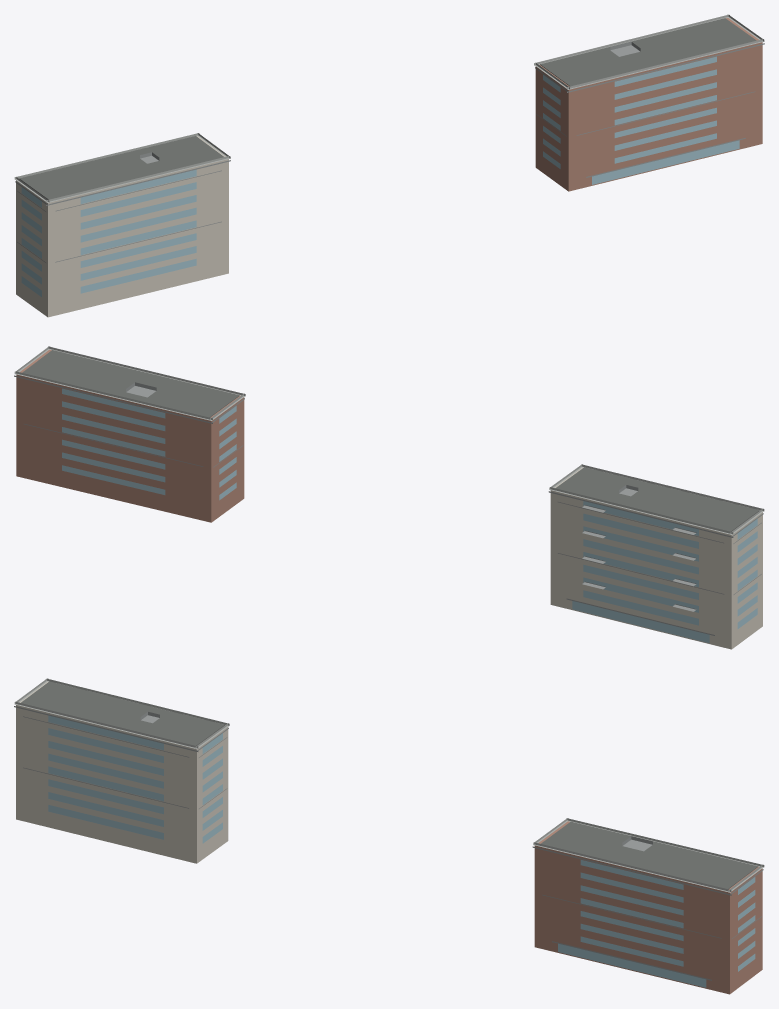
File: tile-p001-m004.glb
The picture shows the model from 3 angles, top to bottom: view 1: azimuth 30°, elevation 25°; view 2: azimuth 150°, elevation 25°; view 3: azimuth 330°, elevation 25°; orthographic projection.
Visible parts, largest first — view 1: building-0909-mesh-7, building-0807-mesh-0, building-0807-mesh-1, building-0909-mesh-8, building-0909-mesh-10, building-0807-mesh-4, building-0909-mesh-11, building-0807-mesh-5, building-0909-mesh-9, building-0807-mesh-2; view 2: building-0909-mesh-7, building-0807-mesh-0, building-0807-mesh-1, building-0909-mesh-10, building-0909-mesh-8, building-0807-mesh-4, building-0909-mesh-11, building-0807-mesh-5, building-0807-mesh-2, building-0807-mesh-3, building-0909-mesh-9; view 3: building-0909-mesh-7, building-0807-mesh-0, building-0807-mesh-1, building-0909-mesh-8, building-0909-mesh-10, building-0807-mesh-4, building-0909-mesh-11, building-0807-mesh-5, building-0909-mesh-9, building-0807-mesh-2.
Part boxes in pixels (left/top/right/bottom): building-0909-mesh-7: left=535, top=18, right=762, bottom=191; building-0807-mesh-0: left=16, top=136, right=228, bottom=317; building-0807-mesh-1: left=21, top=169, right=196, bottom=296; building-0909-mesh-8: left=543, top=56, right=739, bottom=184; building-0909-mesh-10: left=540, top=18, right=756, bottom=86; building-0807-mesh-4: left=19, top=136, right=223, bottom=199; building-0909-mesh-11: left=534, top=14, right=764, bottom=89; building-0807-mesh-5: left=14, top=133, right=230, bottom=202; building-0909-mesh-9: left=535, top=43, right=764, bottom=177; building-0807-mesh-2: left=15, top=160, right=230, bottom=262; building-0909-mesh-7: left=16, top=349, right=244, bottom=522; building-0807-mesh-0: left=550, top=467, right=762, bottom=649; building-0807-mesh-1: left=572, top=501, right=757, bottom=643; building-0909-mesh-10: left=22, top=350, right=239, bottom=417; building-0909-mesh-8: left=62, top=388, right=236, bottom=500; building-0807-mesh-4: left=555, top=467, right=759, bottom=531; building-0909-mesh-11: left=14, top=346, right=245, bottom=420; building-0807-mesh-5: left=549, top=464, right=764, bottom=534; building-0807-mesh-2: left=548, top=491, right=763, bottom=635; building-0807-mesh-3: left=582, top=505, right=696, bottom=611; building-0909-mesh-9: left=14, top=375, right=244, bottom=467; building-0909-mesh-7: left=534, top=821, right=762, bottom=994; building-0807-mesh-0: left=16, top=681, right=228, bottom=863; building-0807-mesh-1: left=48, top=715, right=222, bottom=843; building-0909-mesh-8: left=558, top=860, right=755, bottom=987; building-0909-mesh-10: left=541, top=821, right=758, bottom=889; building-0807-mesh-4: left=21, top=681, right=224, bottom=745; building-0909-mesh-11: left=533, top=818, right=764, bottom=892; building-0807-mesh-5: left=14, top=678, right=229, bottom=749; building-0909-mesh-9: left=532, top=846, right=763, bottom=980; building-0807-mesh-2: left=14, top=706, right=228, bottom=808.
Size of the model in its own units: 197 by 31.6 by 17.4.
